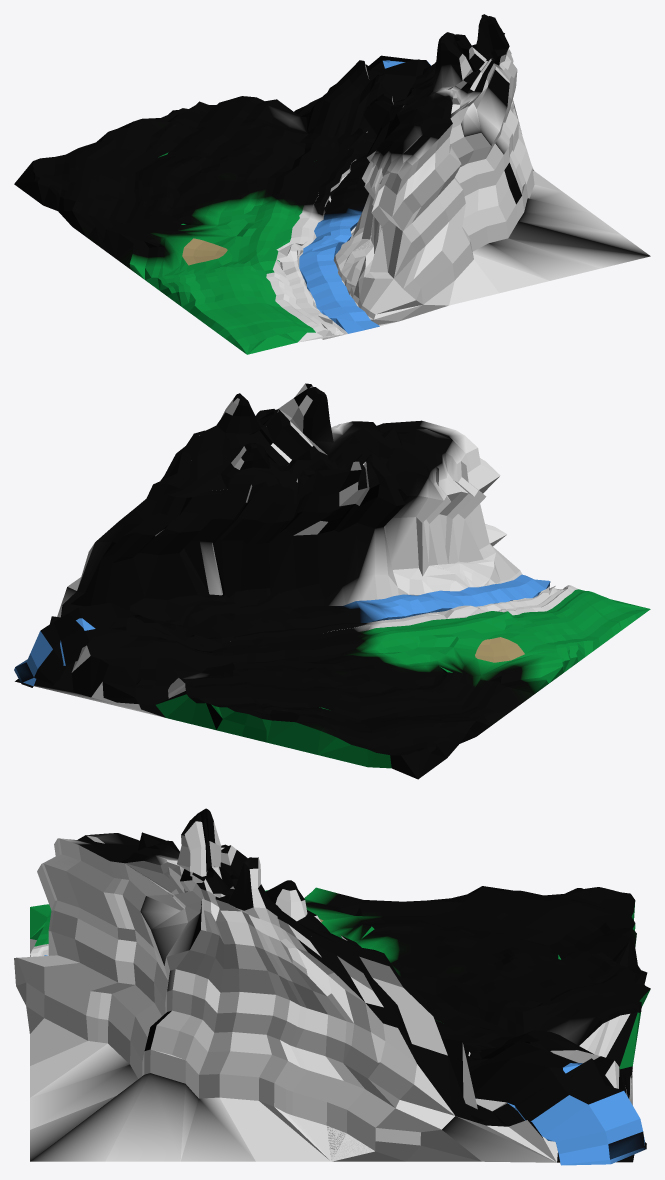
The model's file is Karte.fbx.
3 renders of one model, top to bottom at view 1: azimuth 30°, elevation 25°; view 2: azimuth 150°, elevation 25°; view 3: azimuth 270°, elevation 25°, orthographic. The views are drawn at different scales.
Parts seen in each view (by area): view 1: Grundgerüst; view 2: Grundgerüst; view 3: Grundgerüst.
Boxes of the visible parts, bbox=[...] form: Grundgerüst: bbox=[14, 14, 650, 354]; Grundgerüst: bbox=[14, 383, 650, 779]; Grundgerüst: bbox=[14, 808, 650, 1165].
Bounding box in the file's own units: 5830 × 2721 × 5758.
